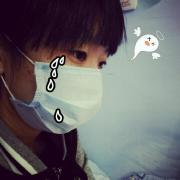OK: (9, 30, 111, 132)
